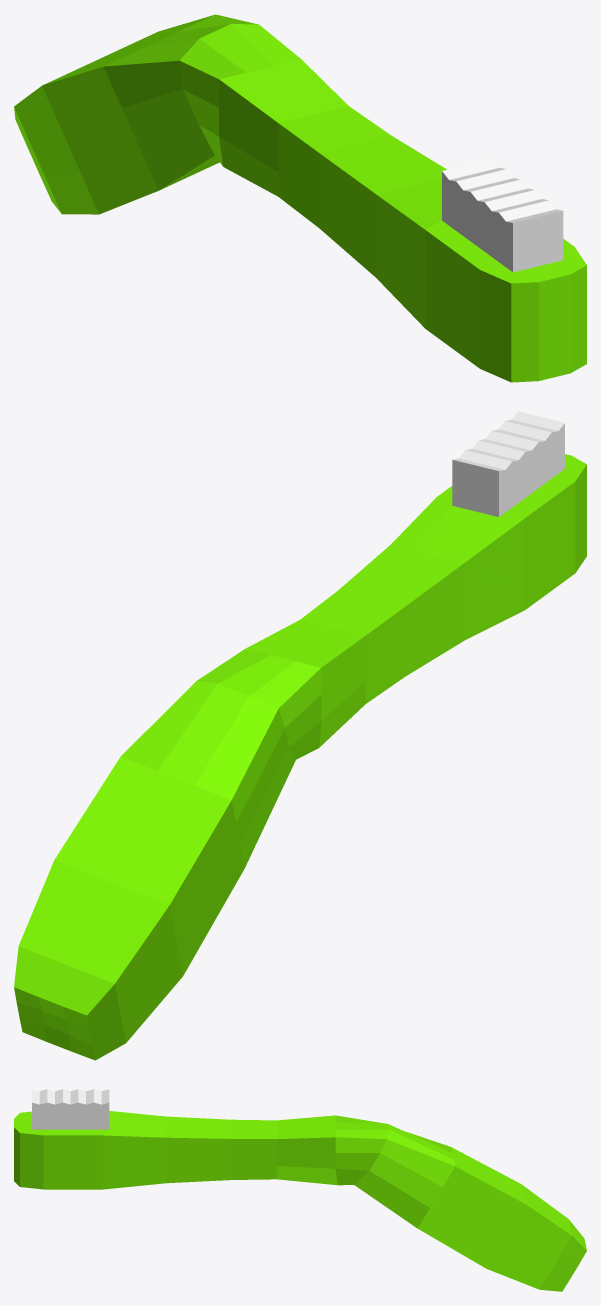
The model's file is jamihammasharja1.fbx.
The picture shows the model from 3 angles, top to bottom: view 1: azimuth 30°, elevation 25°; view 2: azimuth 150°, elevation 25°; view 3: azimuth 270°, elevation 25°; orthographic projection. The views are drawn at different scales.
Visible parts, largest first — view 1: Cube; view 2: Cube; view 3: Cube.
Boxes of the visible parts, bbox=[...] form: Cube: bbox=[14, 14, 586, 382]; Cube: bbox=[14, 411, 586, 1060]; Cube: bbox=[14, 1089, 586, 1291].
Size of the model in its own units: 3.05 by 19.22 by 6.82.
